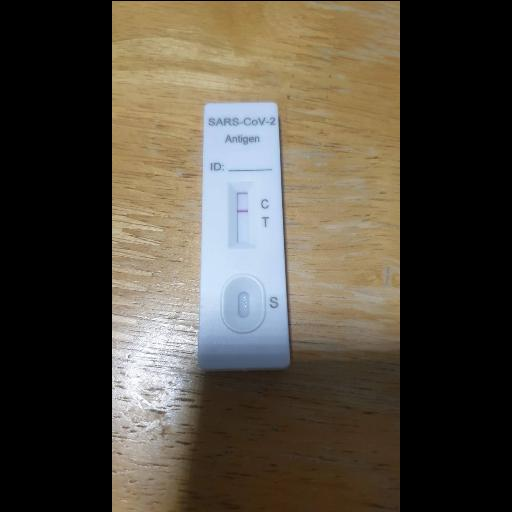Neg: (197, 99, 292, 367)
